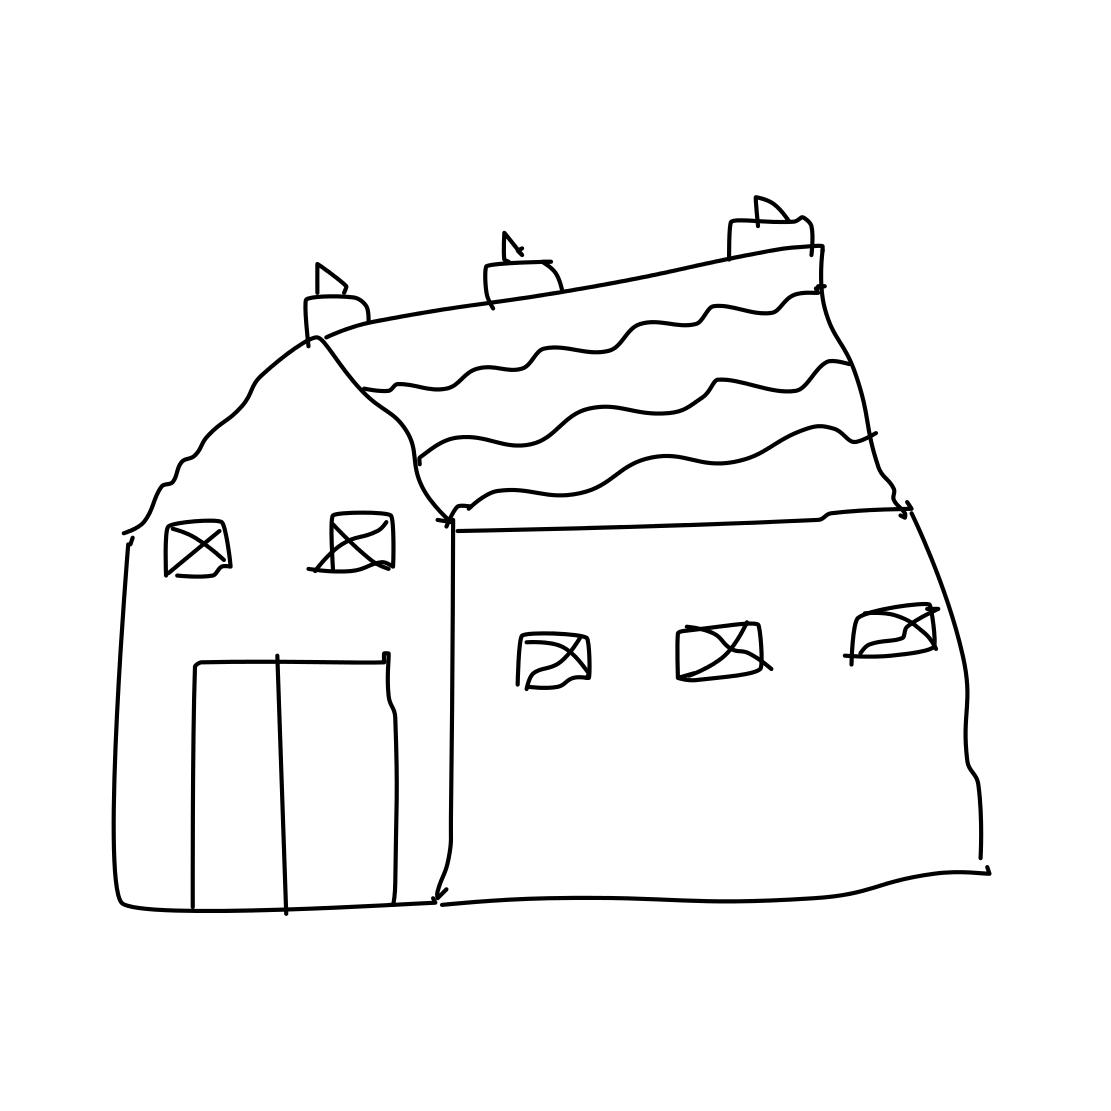House: (81, 187, 1028, 937)
